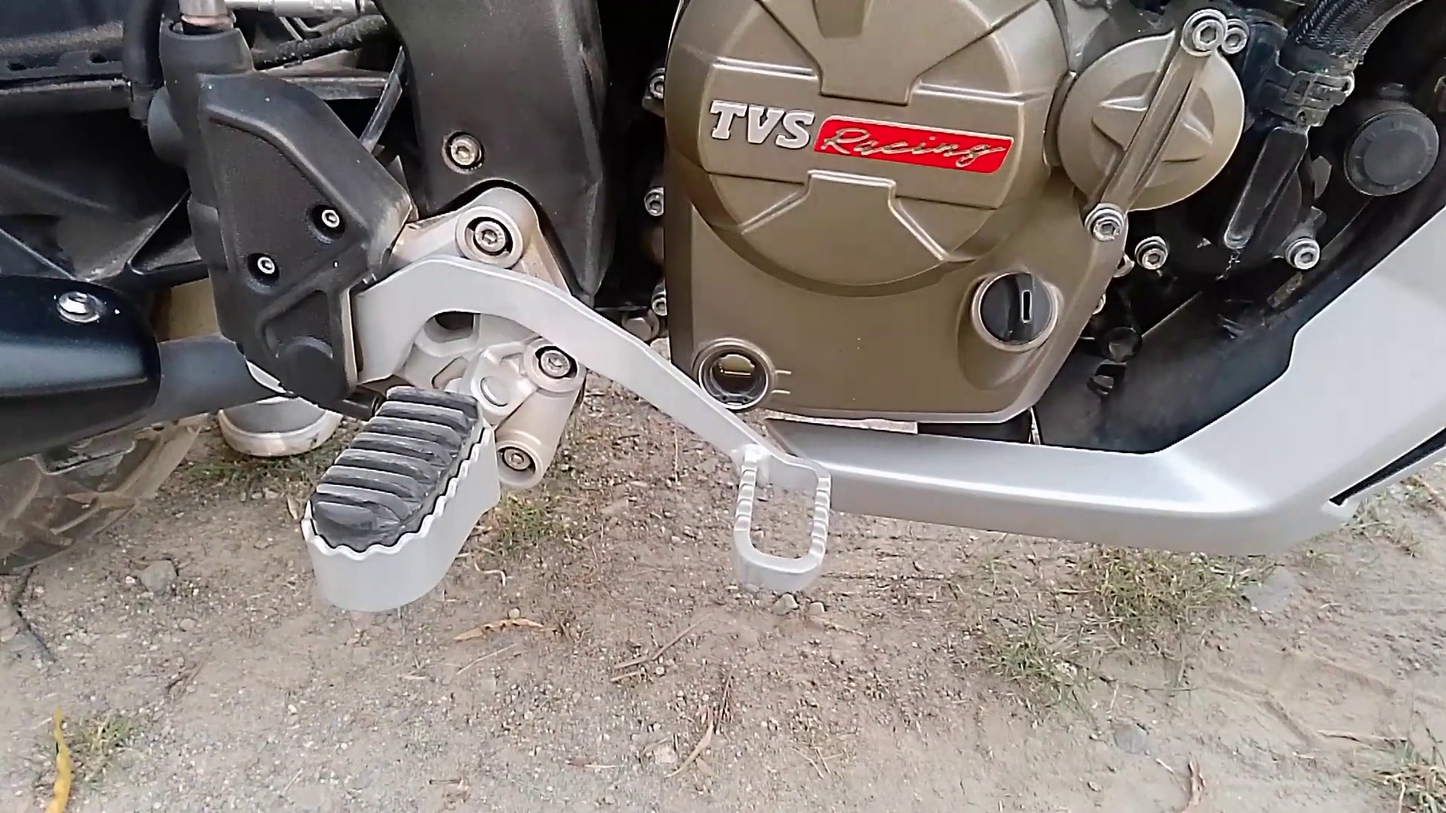engine: (659, 0, 1265, 467)
oil_cap: (949, 239, 1084, 391)
oil_marker: (680, 312, 810, 444)
